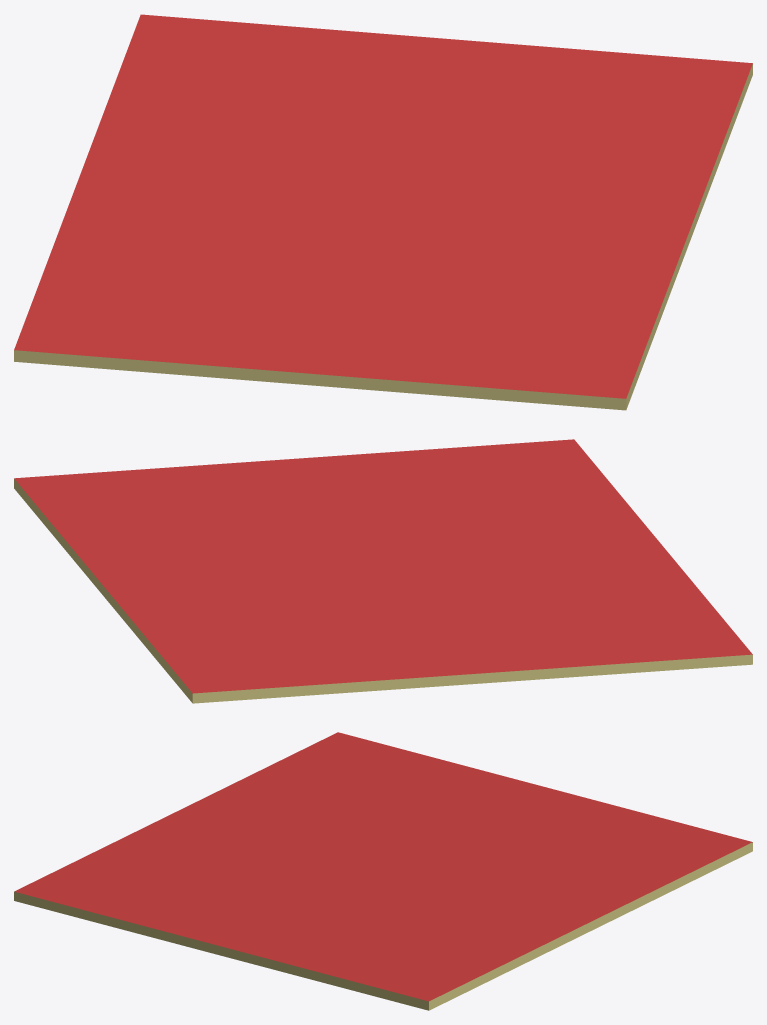
3 renders of one model, top to bottom at view 1: azimuth 30°, elevation 25°; view 2: azimuth 150°, elevation 25°; view 3: azimuth 270°, elevation 25°, orthographic. The views are drawn at different scales.
Bounding box in the file's own units: 7.15 × 7.2 × 0.538.
